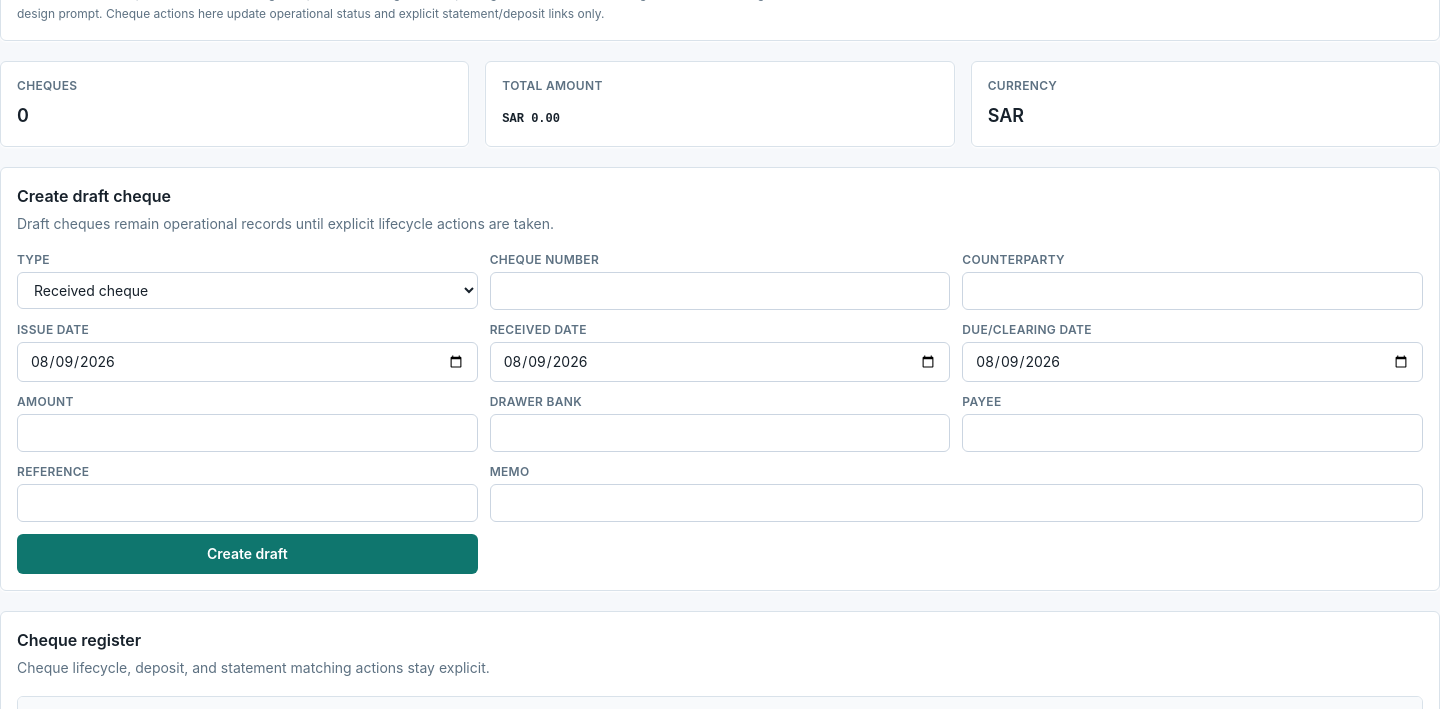
Test case: ChequesPage › validates required fields before creating a draft cheque
(page scrolled)
Expected: the heading "Create draft cheque" is shown, [17,186,171,206]
Type "150.0000" into the field labelled "Amount" at (247, 433), box [17,414,478,452]
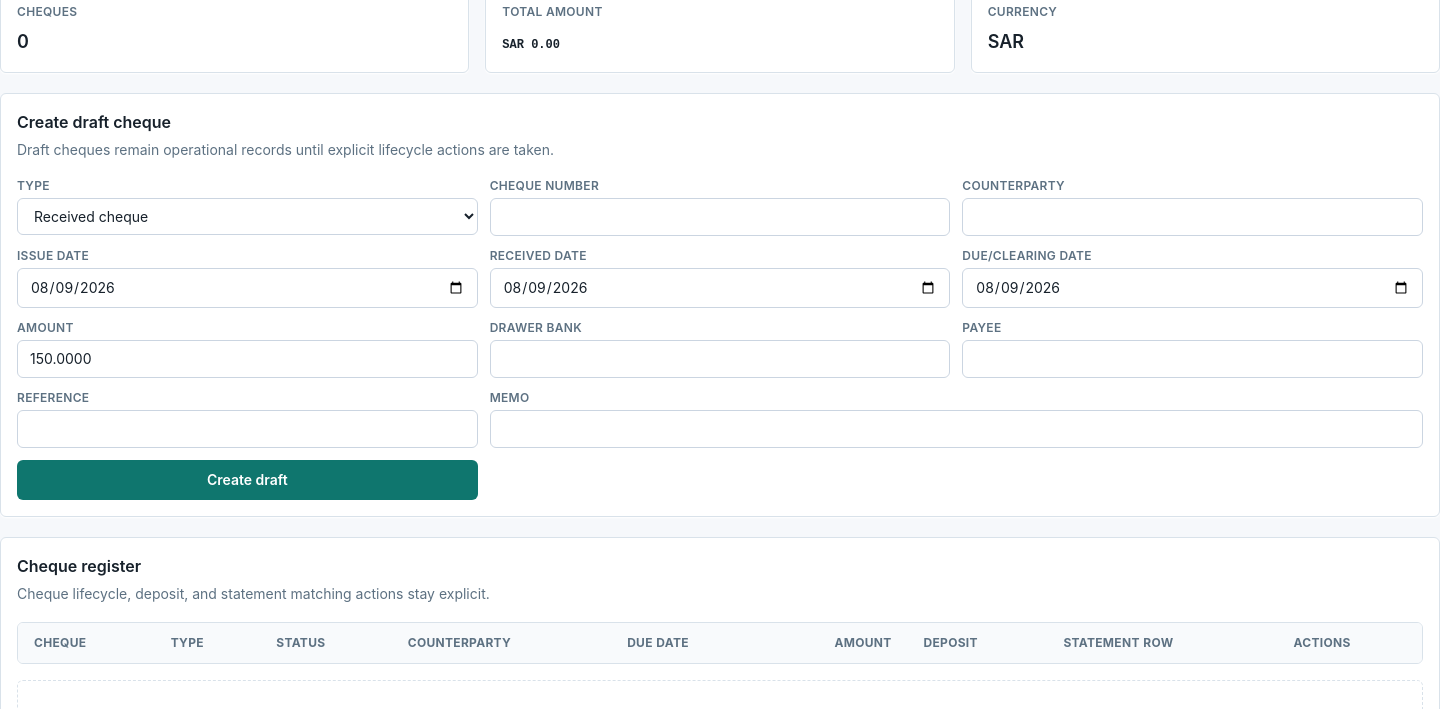
Click the button "Create draft" at (247, 480), box [17,460,478,500]
(page scrolled)
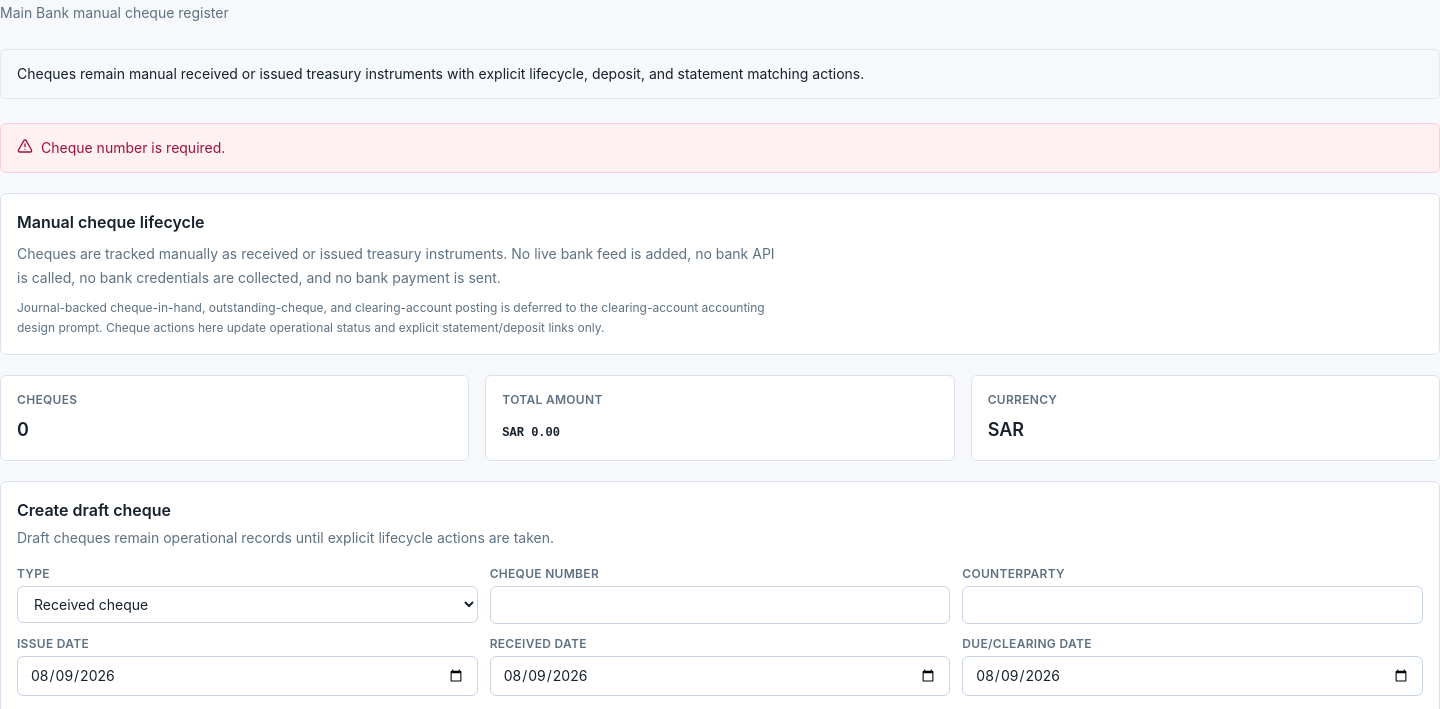
Now the text "Cheque number is required." is shown, box [41,136,225,160]
